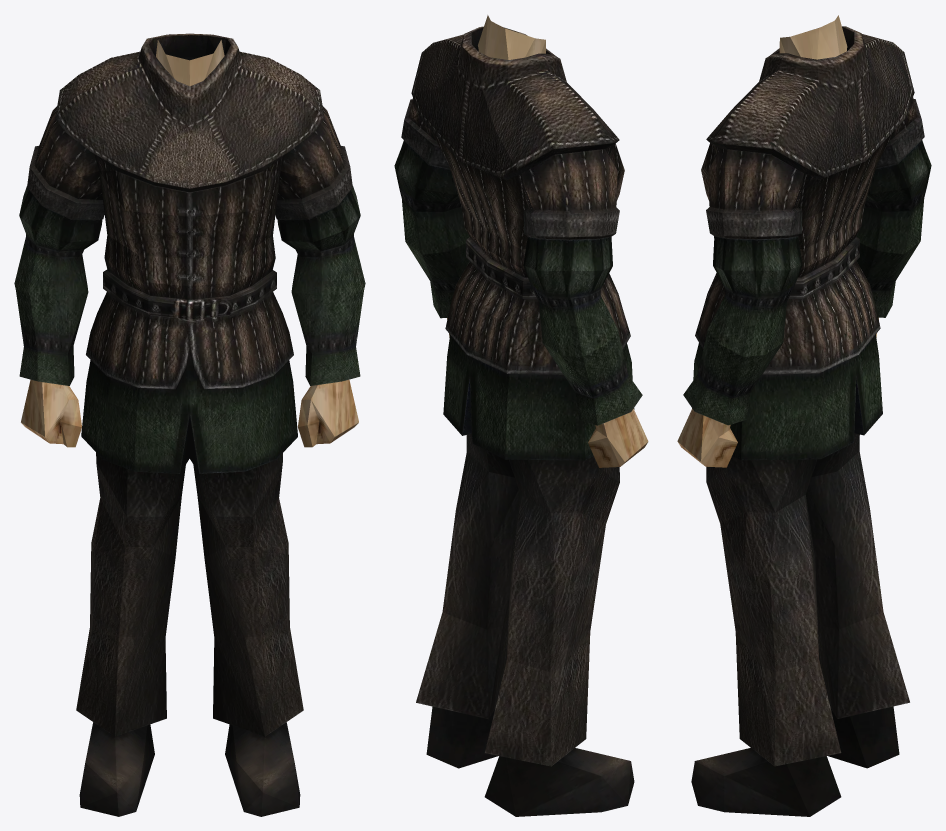
The model's file is HUM_DHT1_ARMOR.glb.
The picture shows the model from 3 angles, left to right: view 1: azimuth 30°, elevation 25°; view 2: azimuth 150°, elevation 25°; view 3: azimuth 270°, elevation 25°; orthographic projection.
Visible parts, largest first — view 1: HUM_DHT1_ARMOR.001; view 2: HUM_DHT1_ARMOR.001; view 3: HUM_DHT1_ARMOR.001.
Part boxes in pixels (x1,y1,x2,y2): HUM_DHT1_ARMOR.001: (14, 33, 365, 816); HUM_DHT1_ARMOR.001: (394, 15, 648, 816); HUM_DHT1_ARMOR.001: (677, 15, 931, 816).
Size of the model in its own units: 0.6681 by 1.69 by 0.5098.
2 materials, 2 textured.
